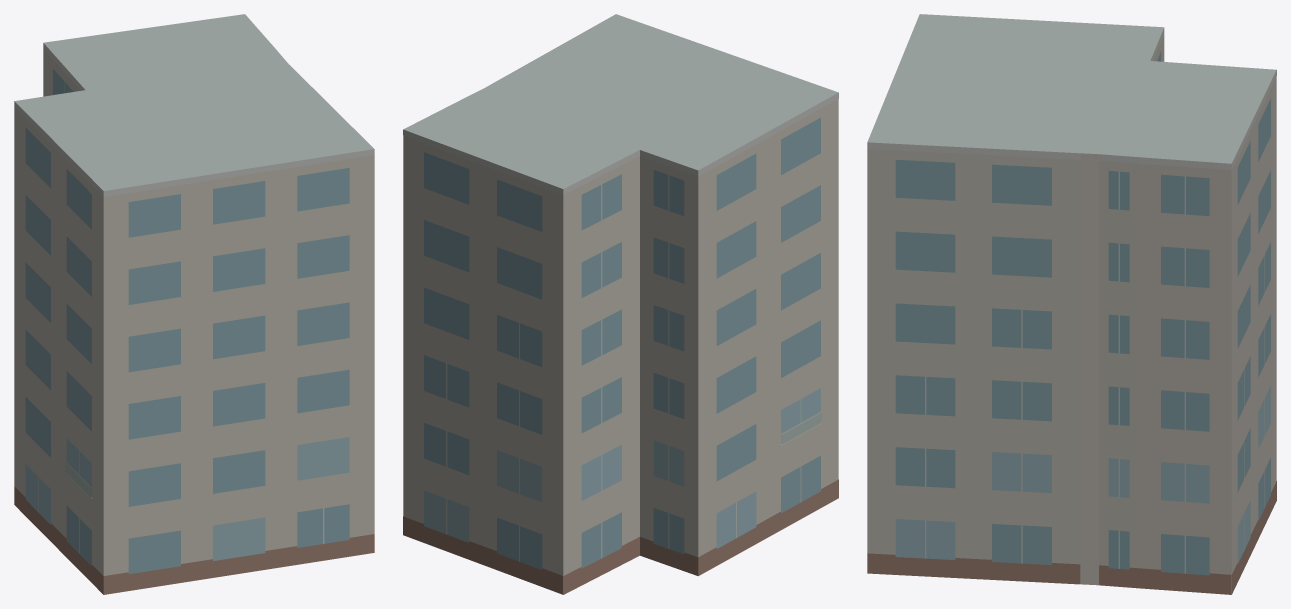
File: survey-upis-32860625.glb
3 views of the same model, side by side, from view 1: azimuth 30°, elevation 25°; view 2: azimuth 150°, elevation 25°; view 3: azimuth 270°, elevation 25° (orthographic). The views are drawn at different scales.
Visible parts, largest first — view 1: survey-upis-32860625.tmp; view 2: survey-upis-32860625.tmp; view 3: survey-upis-32860625.tmp.
Part boxes in pixels (x1,y1,x2,y2): survey-upis-32860625.tmp: (14, 14, 374, 594); survey-upis-32860625.tmp: (403, 14, 838, 594); survey-upis-32860625.tmp: (867, 14, 1276, 594).
Size of the model in its own units: 12.23 by 16.4 by 14.13.
